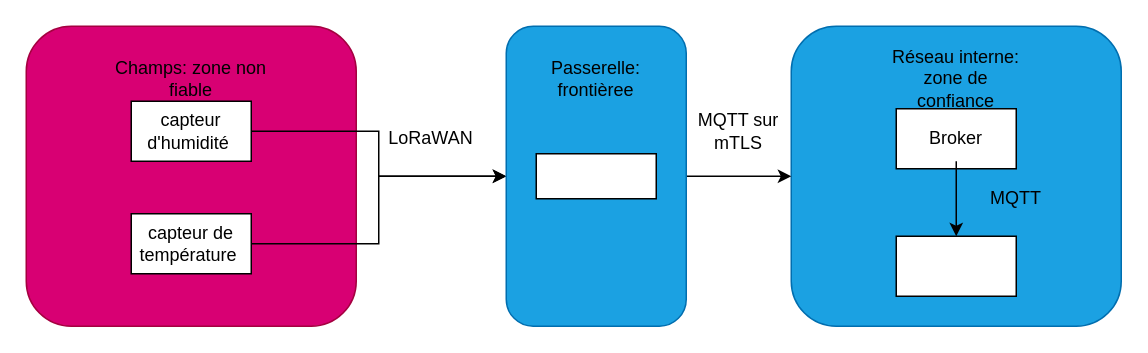
Image size: 1148x353. Some labels were removed from this diagram. The shapes that lost their labels are listed below. From the top down, each one's centre as x and y in pixels, then its label:
At (x=595, y=175): "LoRaWAN / MQTT".
At (x=955, y=265): "Superviseur".
